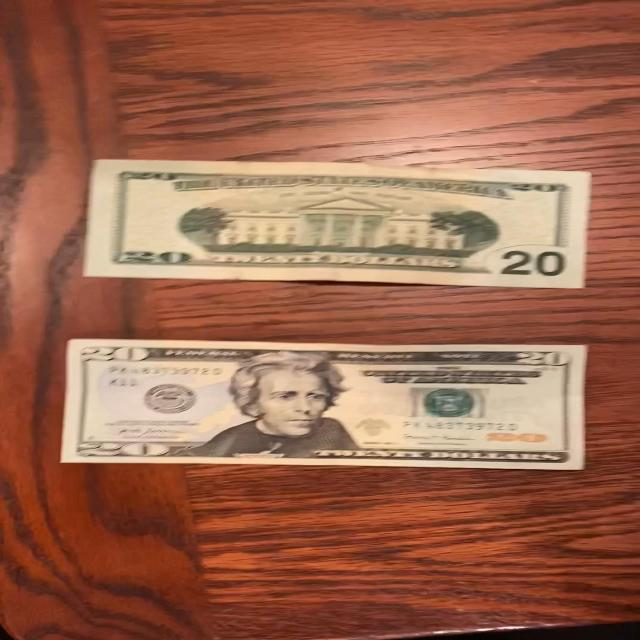20-Front: (39, 327, 618, 477), (69, 155, 606, 289)
